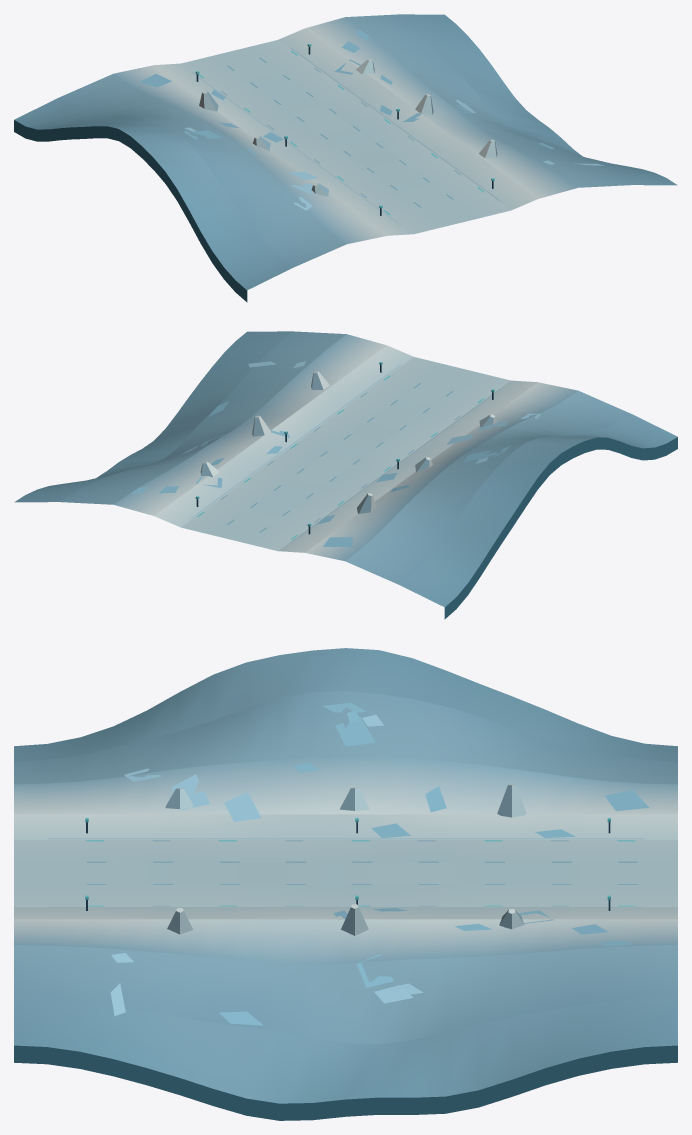
The model's file is 08-summit.glb.
The picture shows the model from 3 angles, top to bottom: view 1: azimuth 30°, elevation 25°; view 2: azimuth 150°, elevation 25°; view 3: azimuth 270°, elevation 25°; orthographic projection. The views are drawn at different scales.
Visible parts, largest first — view 1: summit; view 2: summit; view 3: summit.
Part boxes in pixels (x1,y1,x2,y2): summit: [14, 14, 677, 302]; summit: [14, 331, 677, 619]; summit: [14, 648, 677, 1120].
Bounding box in the file's own units: 32 × 8.65 × 30.
